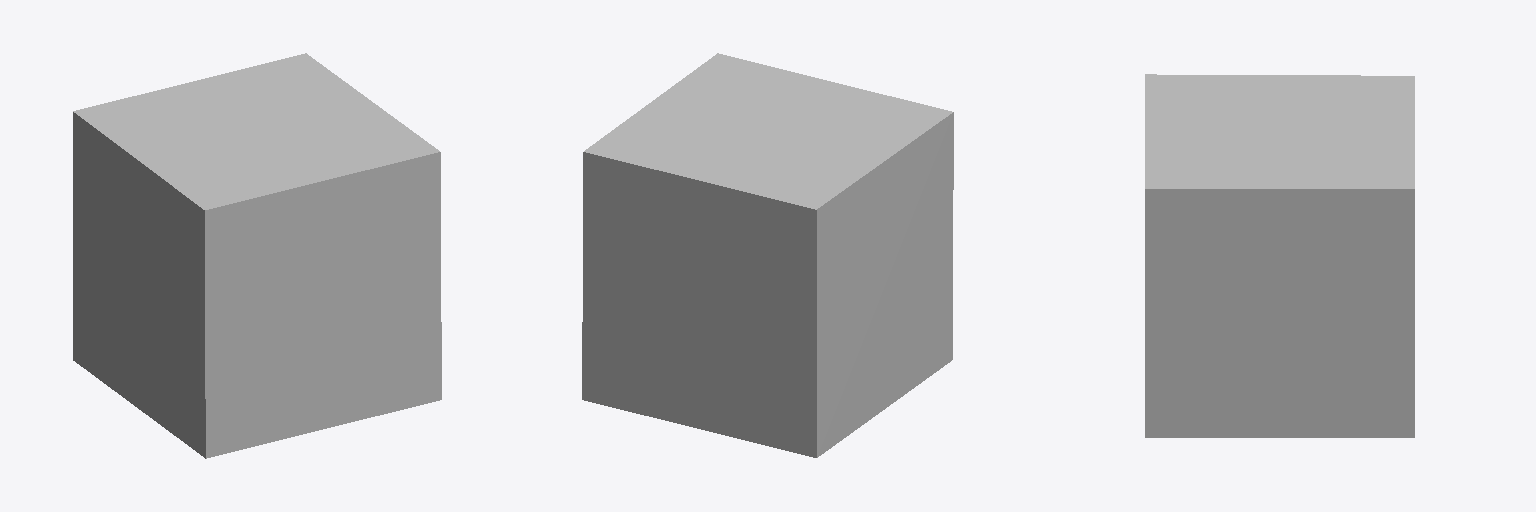
Rendered from cornell-box02.obj.
3 renders of one model, left to right at view 1: azimuth 30°, elevation 25°; view 2: azimuth 150°, elevation 25°; view 3: azimuth 270°, elevation 25°, orthographic.
Visible parts, largest first — view 1: ceiling, red_wall, back_wall; view 2: floor, red_wall, back_wall; view 3: green_wall, back_wall.
Part boxes in pixels (left/top/right/bottom): ceiling: left=205, top=152, right=441, bottom=458; red_wall: left=73, top=112, right=205, bottom=458; back_wall: left=73, top=53, right=439, bottom=209; floor: left=582, top=152, right=816, bottom=457; red_wall: left=817, top=112, right=953, bottom=457; back_wall: left=584, top=53, right=952, bottom=209; green_wall: left=1145, top=189, right=1414, bottom=437; back_wall: left=1145, top=74, right=1414, bottom=188.
Size of the model in its own units: 5.51 by 5.54 by 5.41.